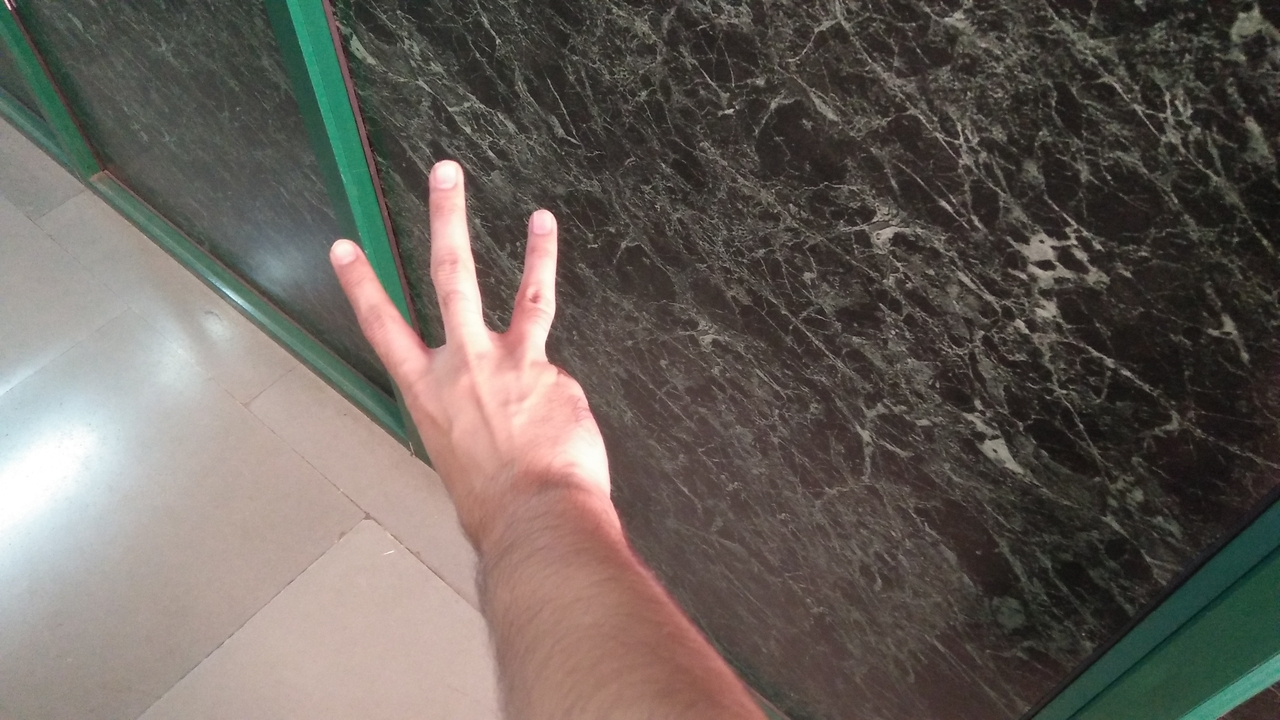fingertip: (316, 228, 366, 284), (420, 150, 468, 202), (516, 198, 562, 244)
